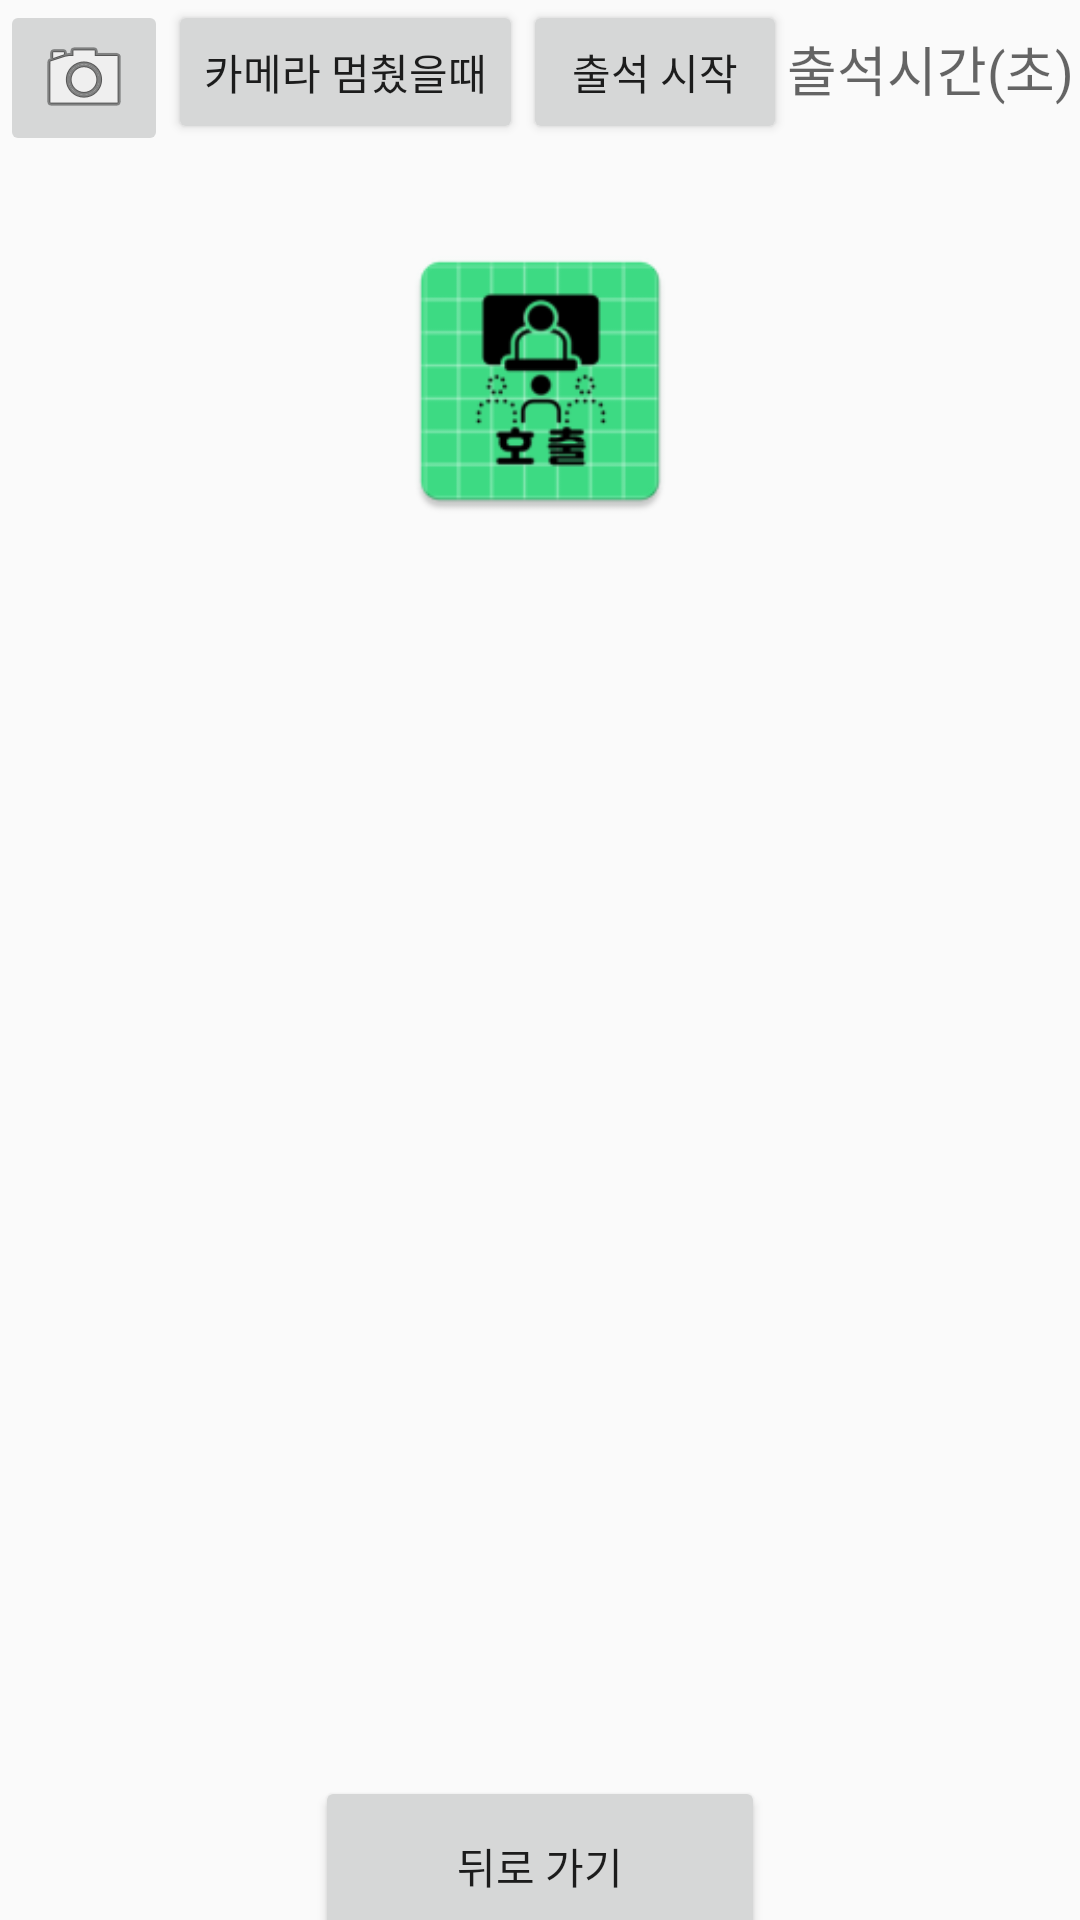

Icon bounding boxes for this 1080 × 1920 phone screenshot, format [left=x1, top=y1, right=x2, bottom=y2]:
camera: [left=12, top=18, right=156, bottom=138]
